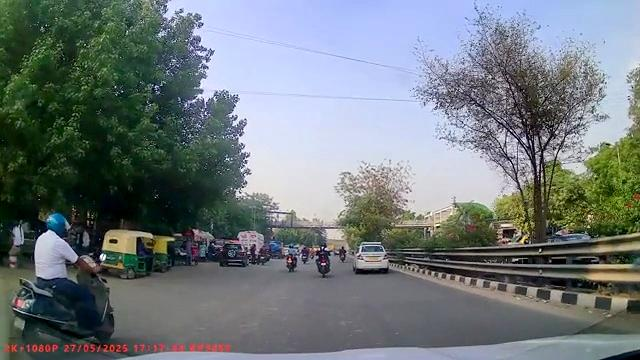motorcycle_with_helmet: (10, 212, 116, 343)
